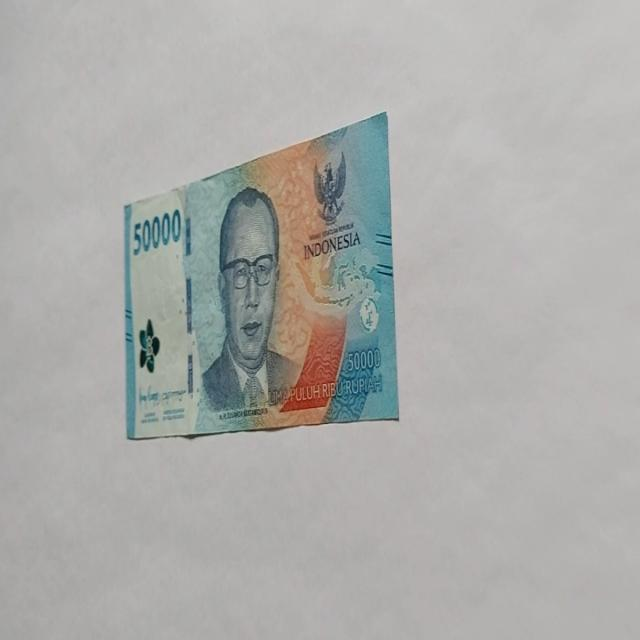lima puluh ribu rupiah: (123, 110, 400, 441), (195, 184, 301, 428)
